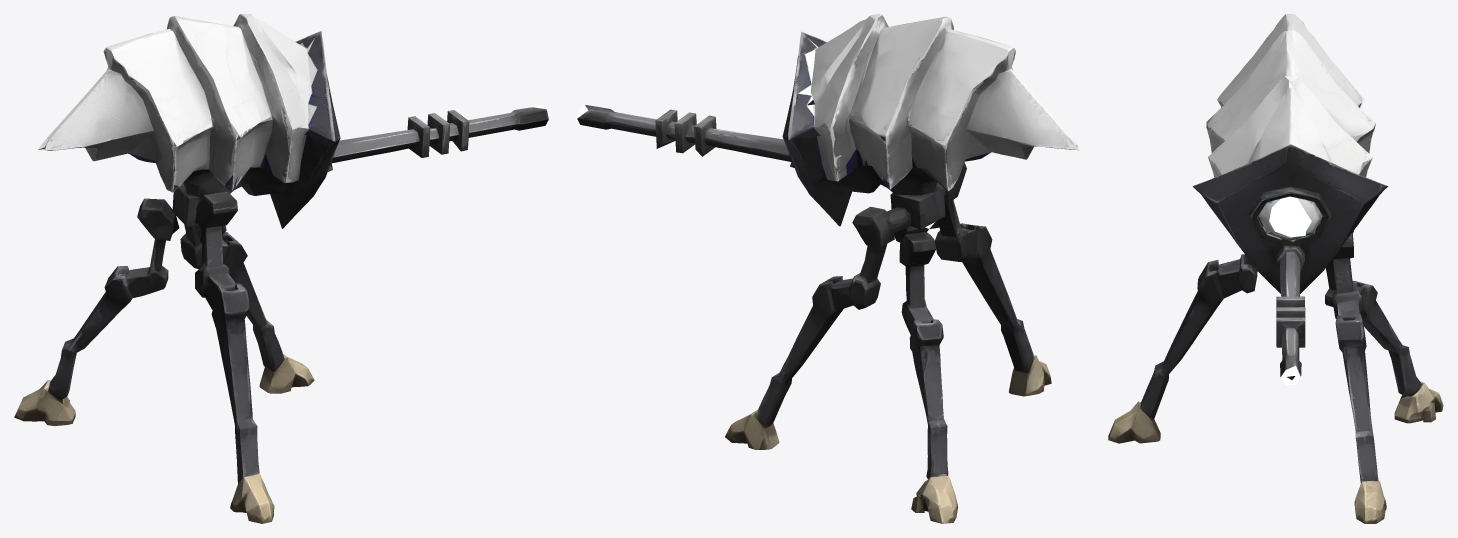
File: sniper.glb
The picture shows the model from 3 angles, left to right: view 1: azimuth 30°, elevation 25°; view 2: azimuth 150°, elevation 25°; view 3: azimuth 270°, elevation 25°; orthographic projection. The views are drawn at different scales.
Visible parts, largest first — view 1: shell, body, barrel, leg_l_l, leg_r_l, leg_f_l, leg_l_u, leg_r_u, leg_f_u; view 2: shell, body, barrel, leg_r_l, leg_f_l, leg_l_l, leg_l_u, leg_r_u, leg_f_u; view 3: shell, body, leg_f_l, leg_r_l, leg_l_l, barrel, leg_l_u, leg_f_u, leg_r_u.
Part boxes in pixels (box(x1,y1,x2,y2)): shell: box(37, 14, 326, 192); body: box(130, 31, 347, 259); barrel: box(330, 105, 548, 169); leg_l_l: box(222, 341, 274, 523); leg_r_l: box(14, 278, 132, 425); leg_f_l: box(223, 232, 314, 393); leg_l_u: box(195, 235, 249, 358); leg_r_u: box(108, 215, 179, 298); leg_f_u: box(180, 225, 240, 269); shell: box(792, 14, 1079, 190); body: box(780, 31, 990, 262); barrel: box(577, 105, 792, 164); leg_r_l: box(909, 324, 957, 523); leg_f_l: box(725, 277, 845, 449); leg_l_l: box(977, 268, 1051, 396); leg_l_u: box(923, 221, 997, 285); leg_r_u: box(894, 235, 942, 339); leg_f_u: box(820, 249, 885, 309); shell: box(1206, 14, 1375, 241); body: box(1192, 144, 1388, 293); leg_f_l: box(1335, 318, 1386, 523); leg_r_l: box(1362, 286, 1443, 423); leg_l_l: box(1108, 307, 1207, 443); barrel: box(1276, 252, 1305, 385); leg_l_u: box(1185, 254, 1257, 331); leg_f_u: box(1332, 258, 1364, 323); leg_r_u: box(1325, 259, 1372, 307).
Size of the model in its own units: 1.58 by 1.3 by 0.9593.
Materials: 3 (3 with a texture image).
